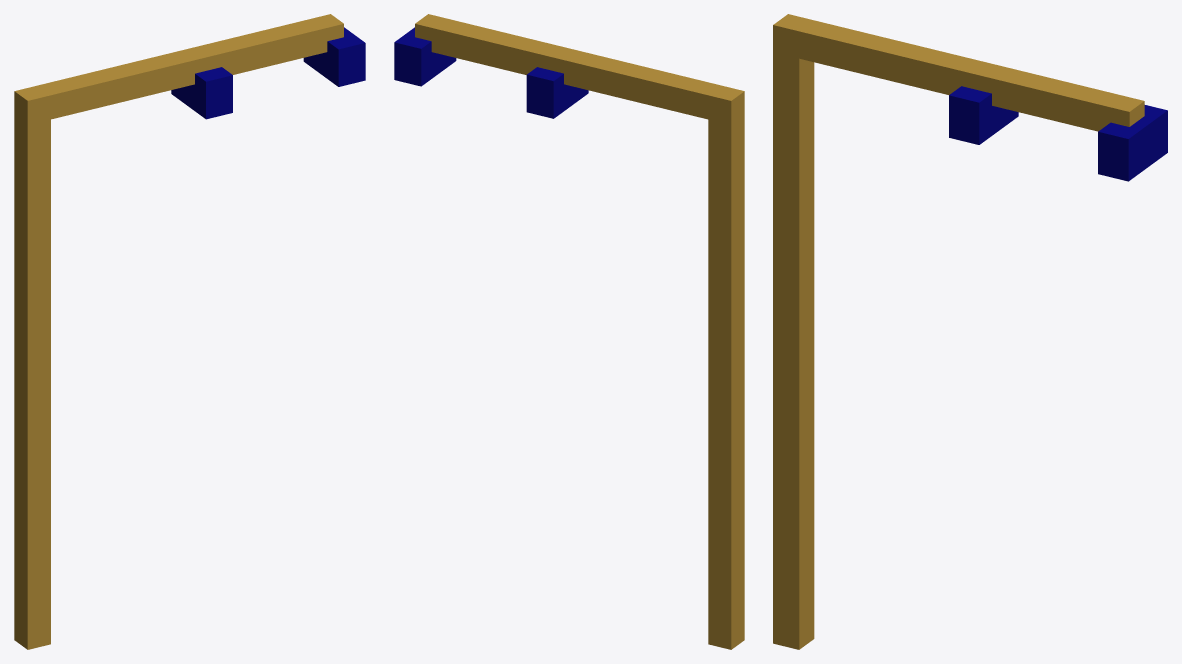
File: bridge_top_bottom.glb
The picture shows the model from 3 angles, left to right: view 1: azimuth 30°, elevation 25°; view 2: azimuth 150°, elevation 25°; view 3: azimuth 330°, elevation 25°; orthographic projection. The views are drawn at different scales.
Visible parts, largest first — view 1: Maxis-3d2-mesh-71; view 2: Maxis-3d2-mesh-71; view 3: Maxis-3d2-mesh-71.
Part boxes in pixels (<box>): Maxis-3d2-mesh-71: <box>14,14,365,649</box>; Maxis-3d2-mesh-71: <box>394,14,744,649</box>; Maxis-3d2-mesh-71: <box>773,14,1167,649</box>.
Size of the model in its own units: 10.58 by 17 by 1.96.
